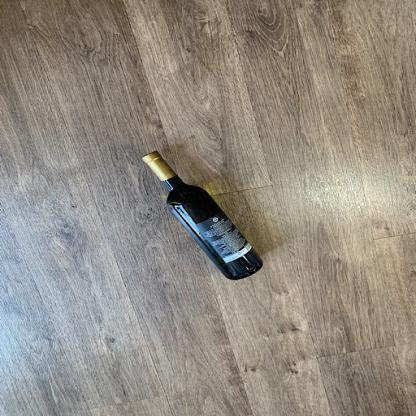trash: (141, 148, 266, 280)
